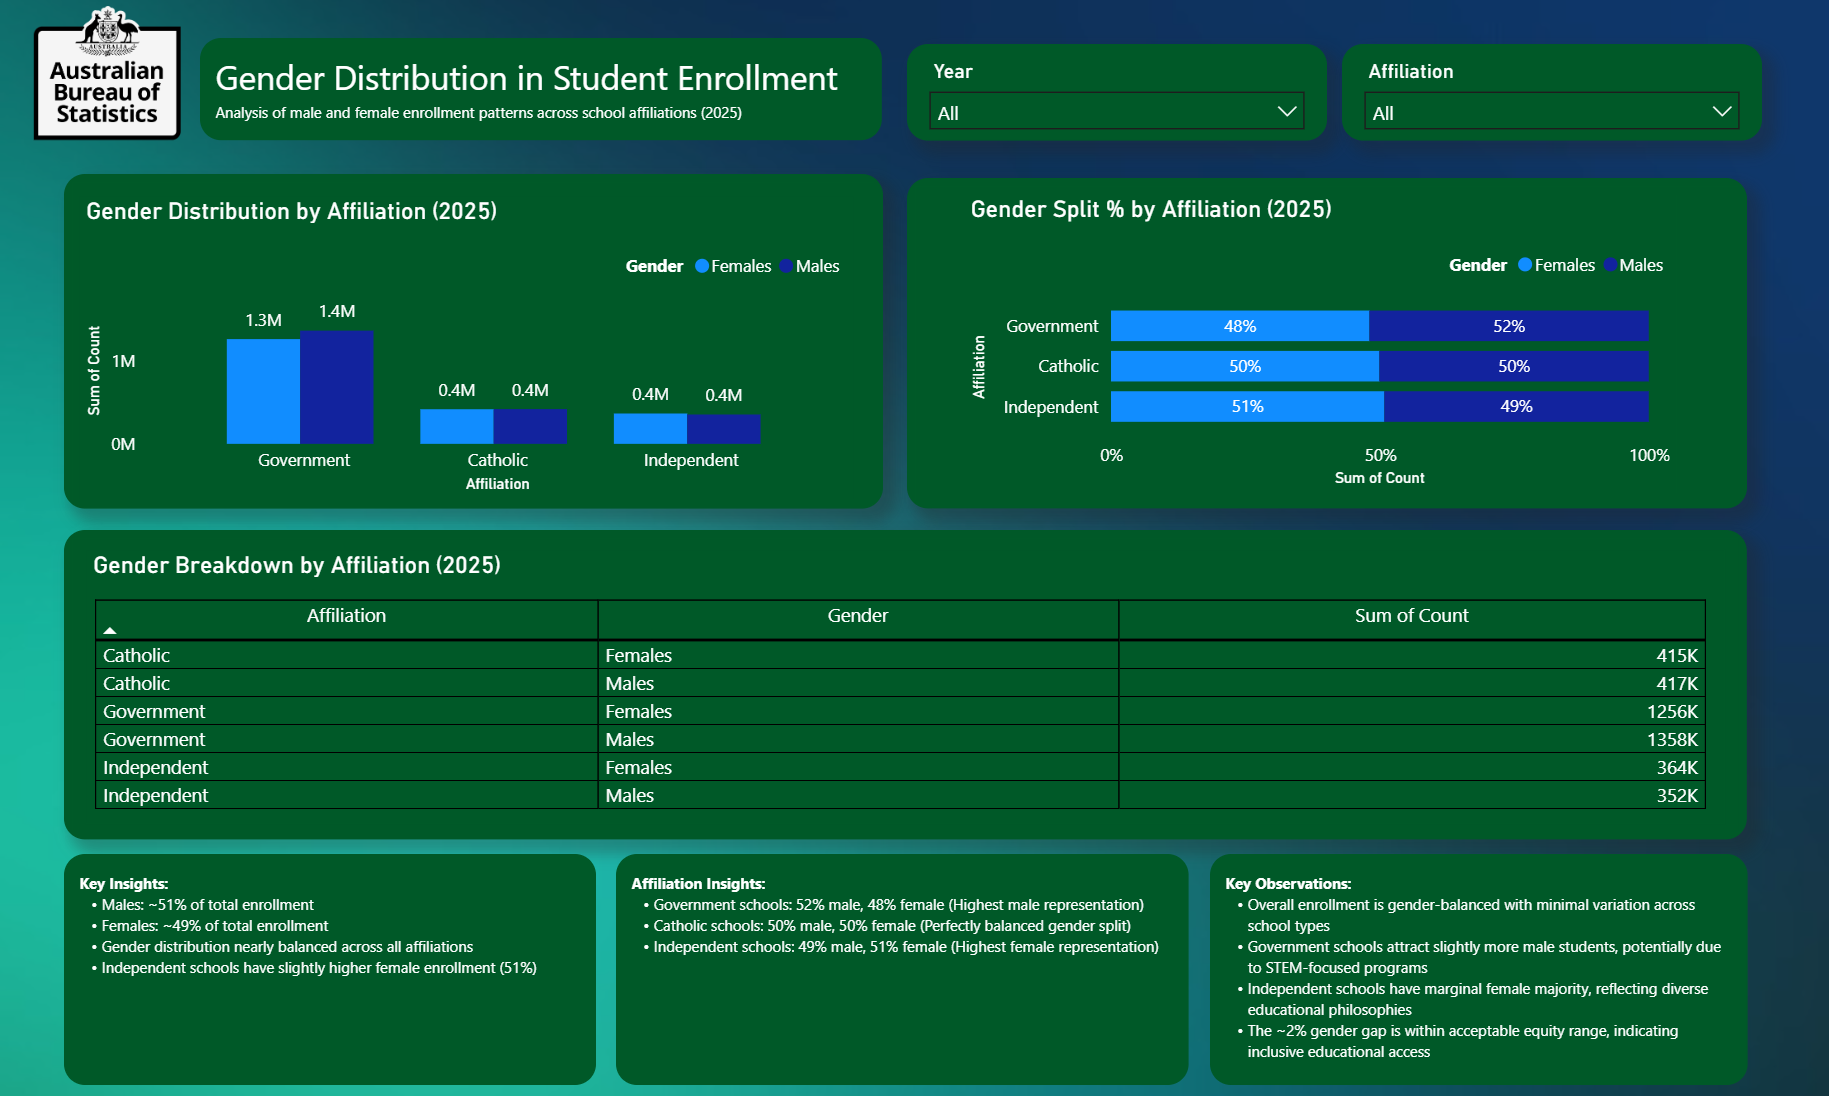

The dashboard page shown, as its layout file describes it:
{"tool":"powerbi","page":{"name":"Gender Analysis","canvas":[1400,800],"ordinal":1},"visuals":[{"type":"image","box":[0,0,1399.7,800],"z":0},{"type":"textbox","box":[143.9,35.1,486.7,73],"z":1000},{"type":"image","box":[18.1,11.9,119.1,95.7],"z":2000},{"type":"shape","box":[46.2,132.3,584.6,239],"z":3000},{"type":"clusteredColumnChart","title":"Gender Distribution by Affiliation (2025)","fields":{"Category":["enrollment_cleaned.Affiliation"],"Y":["Sum(enrollment_cleaned.Count)"],"Series":["enrollment_cleaned.Gender"]},"box":[56.8,147.2,554.7,217.7],"z":4000},{"type":"shape","box":[648.9,134.8,599.6,236.5],"z":5000},{"type":"hundredPercentStackedBarChart","title":"Gender Split % by Affiliation (2025)","fields":{"Category":["enrollment_cleaned.Affiliation"],"Y":["Sum(enrollment_cleaned.Count)"],"Series":["enrollment_cleaned.Gender"]},"box":[689.4,147.2,509.1,212.8],"z":6000},{"type":"shape","box":[46.2,386.2,1202.3,221.5],"z":7000},{"type":"tableEx","title":"Gender Breakdown by Affiliation (2025)","fields":{"Values":["enrollment_cleaned.Affiliation","enrollment_cleaned.Gender","Sum(enrollment_cleaned.Count)"]},"box":[61.1,399.9,1172.3,196.5],"z":8000},{"type":"textbox","box":[46.4,617.9,380,165],"z":9000},{"type":"textbox","box":[440.7,617.9,409.3,165],"z":10000},{"type":"textbox","box":[865,617.9,383.6,165],"z":11000},{"type":"slicer","fields":{"Values":["enrollment_cleaned.Year"]},"box":[648.9,39.3,300.1,68.6],"z":12000},{"type":"slicer","fields":{"Values":["enrollment_cleaned.Affiliation"]},"box":[959.6,39.3,300.1,68.6],"z":13000}]}

Visuals, with their boxes on the page's 1400x800 design canvas (x1, y1, x2, y2). These are canvas units, not pixel positions in the 1829x1096 screenshot, which may show the page scaled, cropped or inside an application window:
image: detection(0, 0, 1400, 800)
textbox: detection(144, 35, 631, 108)
image: detection(18, 12, 137, 108)
shape: detection(46, 132, 631, 371)
"Gender Distribution by Affiliation (2025)" clusteredColumnChart: detection(57, 147, 612, 365)
shape: detection(649, 135, 1248, 371)
"Gender Split % by Affiliation (2025)" hundredPercentStackedBarChart: detection(689, 147, 1198, 360)
shape: detection(46, 386, 1248, 608)
"Gender Breakdown by Affiliation (2025)" tableEx: detection(61, 400, 1233, 596)
textbox: detection(46, 618, 426, 783)
textbox: detection(441, 618, 850, 783)
textbox: detection(865, 618, 1249, 783)
slicer - enrollment_cleaned.Year: detection(649, 39, 949, 108)
slicer - enrollment_cleaned.Affiliation: detection(960, 39, 1260, 108)
